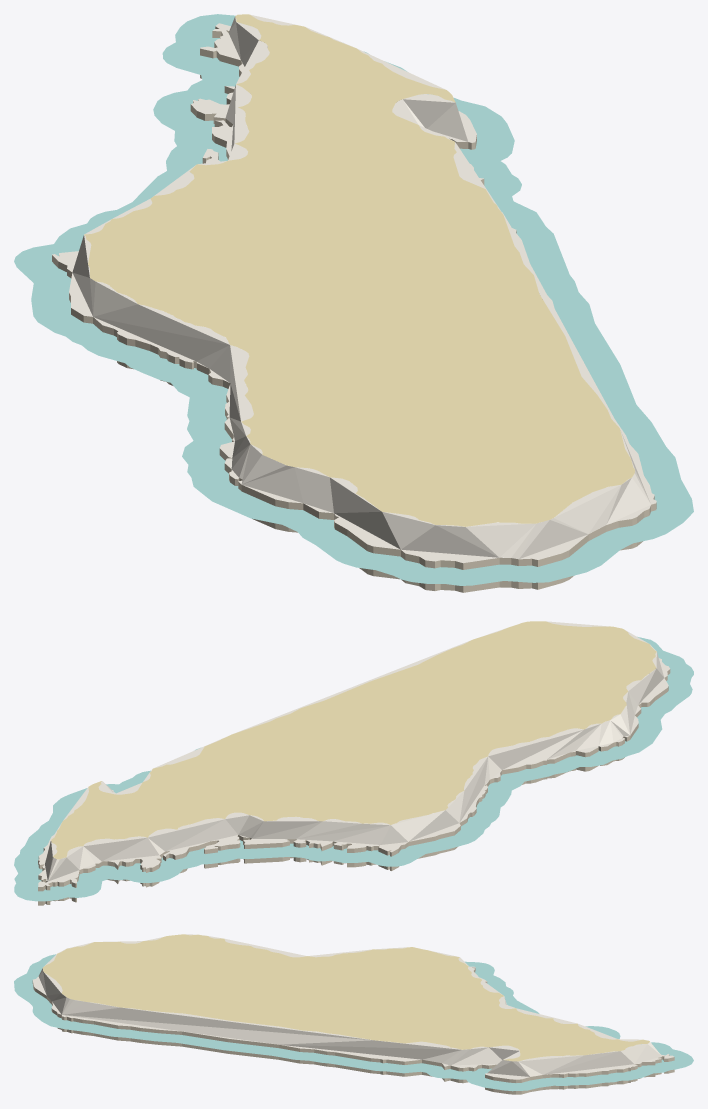
File: madagascar.glb
3 renders of one model, top to bottom at view 1: azimuth 30°, elevation 25°; view 2: azimuth 150°, elevation 25°; view 3: azimuth 270°, elevation 25°, orthographic. The views are drawn at different scales.
Parts seen in each view (by area): view 1: terre, lagon, plage, falaise; view 2: terre, plage, lagon, falaise; view 3: terre, plage, lagon, falaise.
Part boxes in pixels (x1=…): terre: x1=84, y1=14, x2=634, y2=526; lagon: x1=14, y1=14, x2=693, y2=585; plage: x1=52, y1=14, x2=656, y2=562; falaise: x1=52, y1=26, x2=656, y2=592; terre: x1=51, y1=621, x2=656, y2=859; plage: x1=38, y1=621, x2=669, y2=886; lagon: x1=14, y1=636, x2=693, y2=901; falaise: x1=38, y1=669, x2=670, y2=905; terre: x1=42, y1=934, x2=649, y2=1061; plage: x1=33, y1=934, x2=673, y2=1079; lagon: x1=14, y1=954, x2=693, y2=1091; falaise: x1=32, y1=967, x2=674, y2=1094.
Size of the model in its own units: 0.5603 by 0.05 by 1.06.
